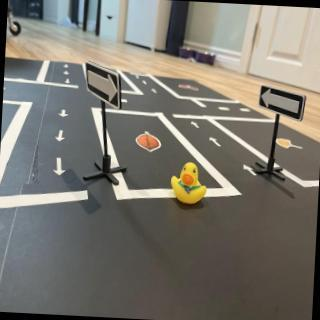duck_regular: (172, 163, 211, 208)
road_oneway: (52, 156, 69, 179), (243, 162, 260, 179), (53, 128, 68, 146), (209, 135, 224, 148), (58, 108, 71, 120), (190, 121, 202, 132), (151, 87, 159, 97)
sign_oneway_left: (259, 85, 308, 125)
sign_oneway_right: (84, 62, 123, 110)
